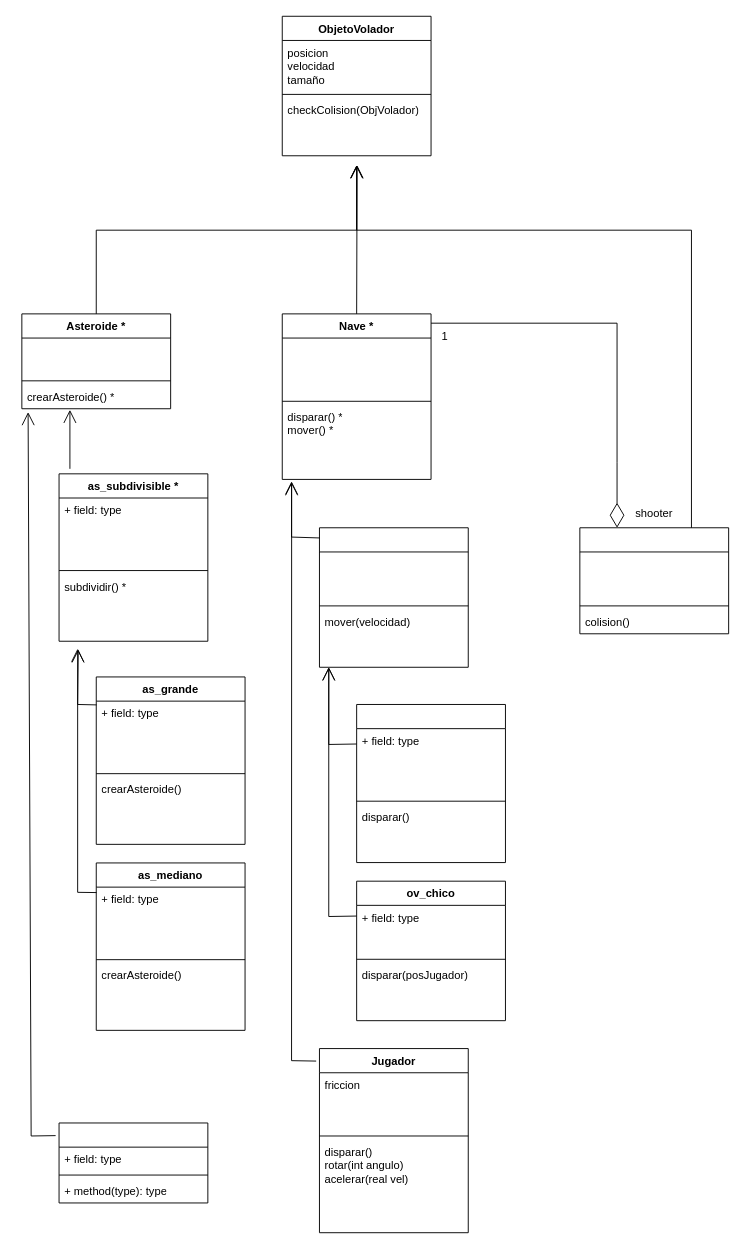
The diagram is 746 pixels wide and 1252 high, and some of its shapes have lost their labels. The shapes that lost their labels are listed below. From the top down, each one's box as (x1, y1, x2, y2) in pixels, then its label:
(319, 527, 468, 667): OVNI *
(579, 527, 729, 634): Proyectil
(356, 704, 505, 863): ov_grande
(58, 1122, 208, 1203): as_chico
